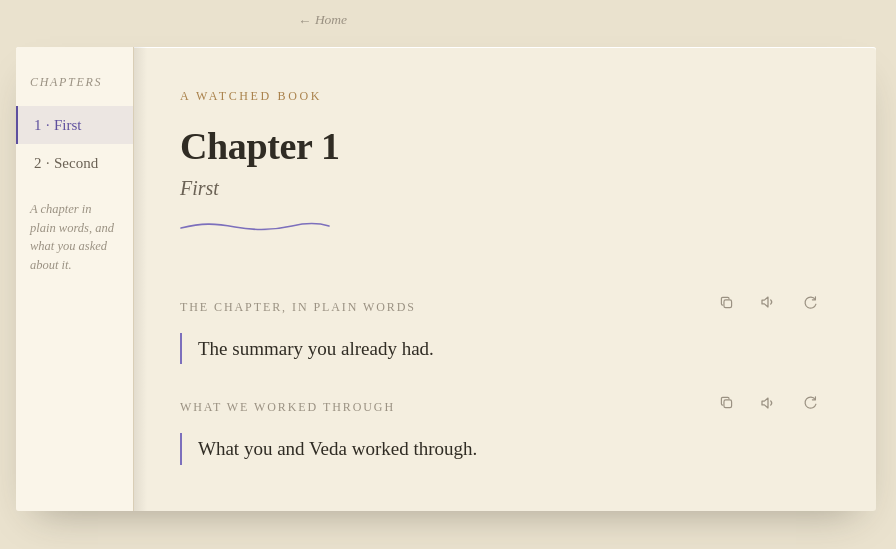
Test: watching a summary being written › copies the summary
The image size is (896, 549).
Click the button named "Copy the chapter summary" at x=726, y=302, box [706,282,746,322]
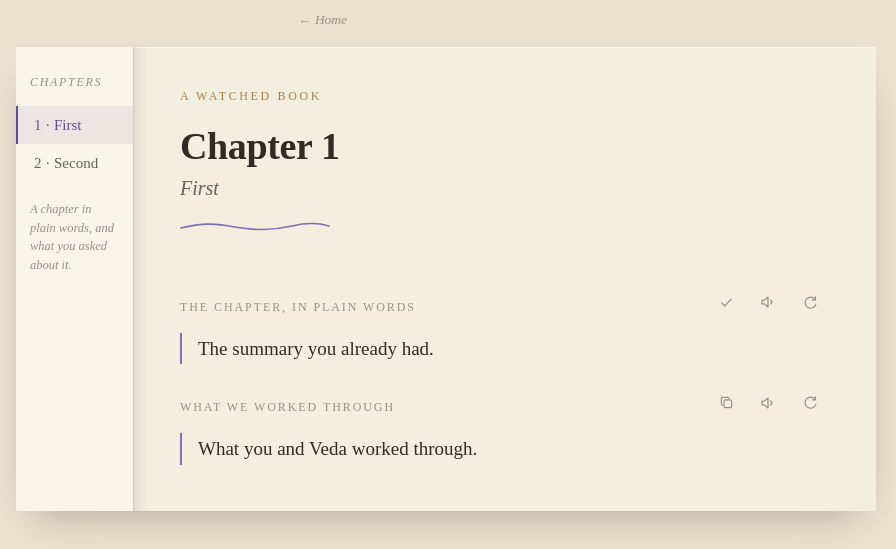
Now the button named "Copied" is shown, box [706,282,746,322]
